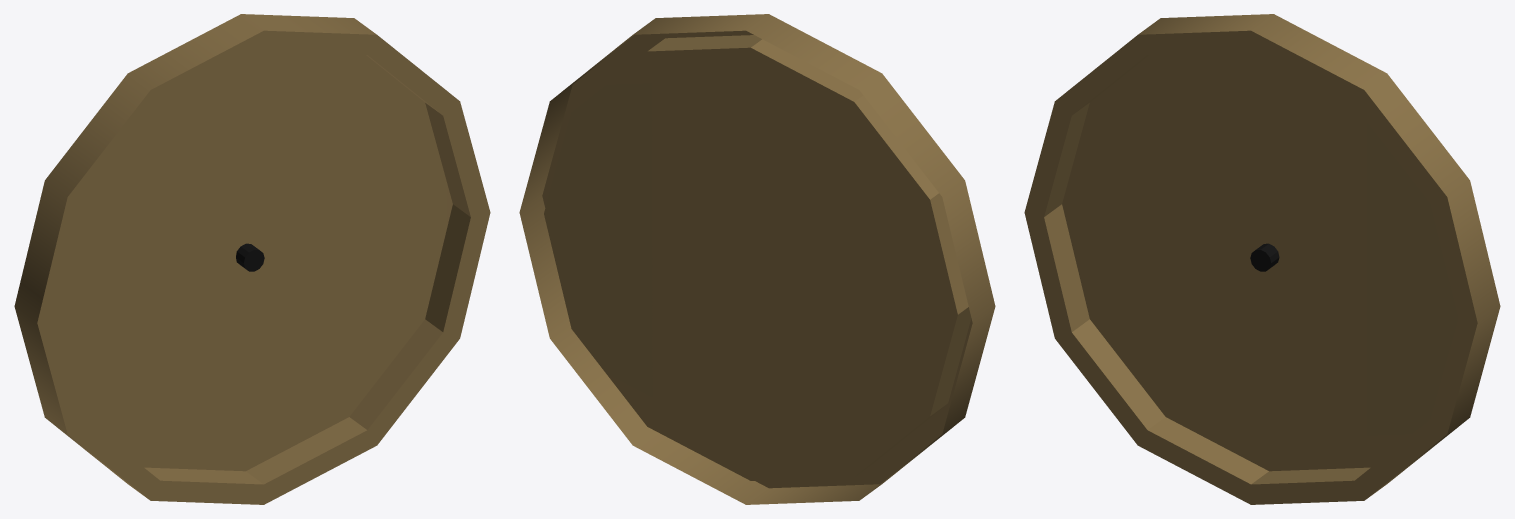
The model's file is Itr_Obj_Grandfatherclock2_Frame_01.FBX.
The picture shows the model from 3 angles, left to right: view 1: azimuth 30°, elevation 25°; view 2: azimuth 150°, elevation 25°; view 3: azimuth 330°, elevation 25°; orthographic projection.
Parts seen in each view (by area): view 1: Itr_Obj_Grandfatherclock2_Frame_01; view 2: Itr_Obj_Grandfatherclock2_Frame_01; view 3: Itr_Obj_Grandfatherclock2_Frame_01.
Boxes of the visible parts, x1,y1,x2,y2 form: Itr_Obj_Grandfatherclock2_Frame_01: (14, 14, 490, 504); Itr_Obj_Grandfatherclock2_Frame_01: (519, 14, 995, 504); Itr_Obj_Grandfatherclock2_Frame_01: (1024, 14, 1500, 504).
Size of the model in its own units: 12.23 by 12.23 by 1.07.
